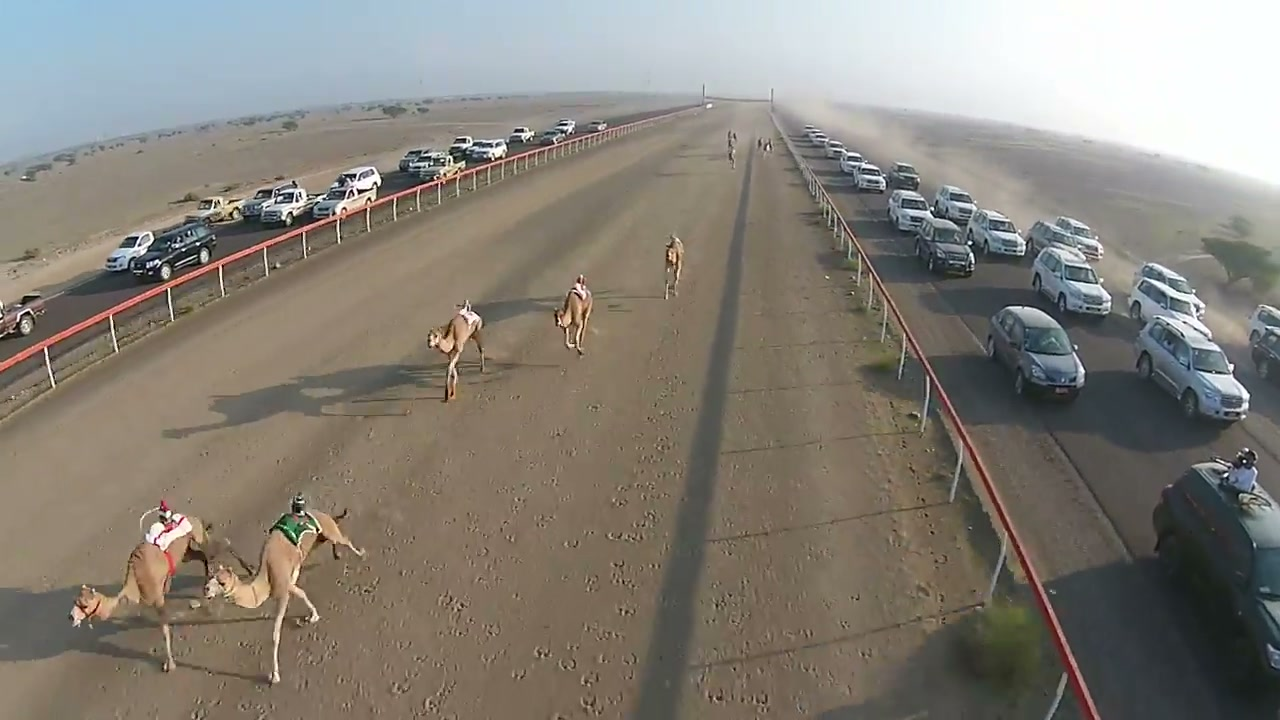animal_footprint: (382, 448, 529, 719), (566, 375, 673, 704)
